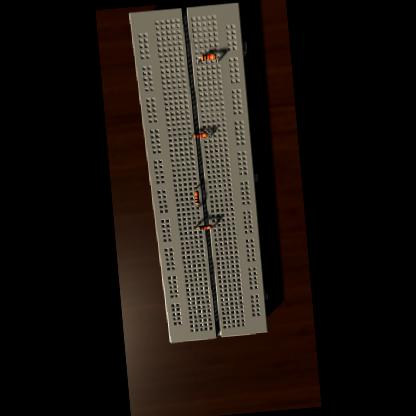breadboard: (128, 2, 272, 344)
resistor: (200, 53, 216, 60), (194, 132, 208, 138), (198, 224, 212, 229), (194, 190, 198, 204)
wire: (197, 56, 201, 62), (216, 54, 219, 61), (190, 134, 193, 138), (194, 225, 197, 227), (208, 133, 210, 136), (212, 224, 214, 226), (197, 204, 198, 206), (196, 187, 196, 189)
